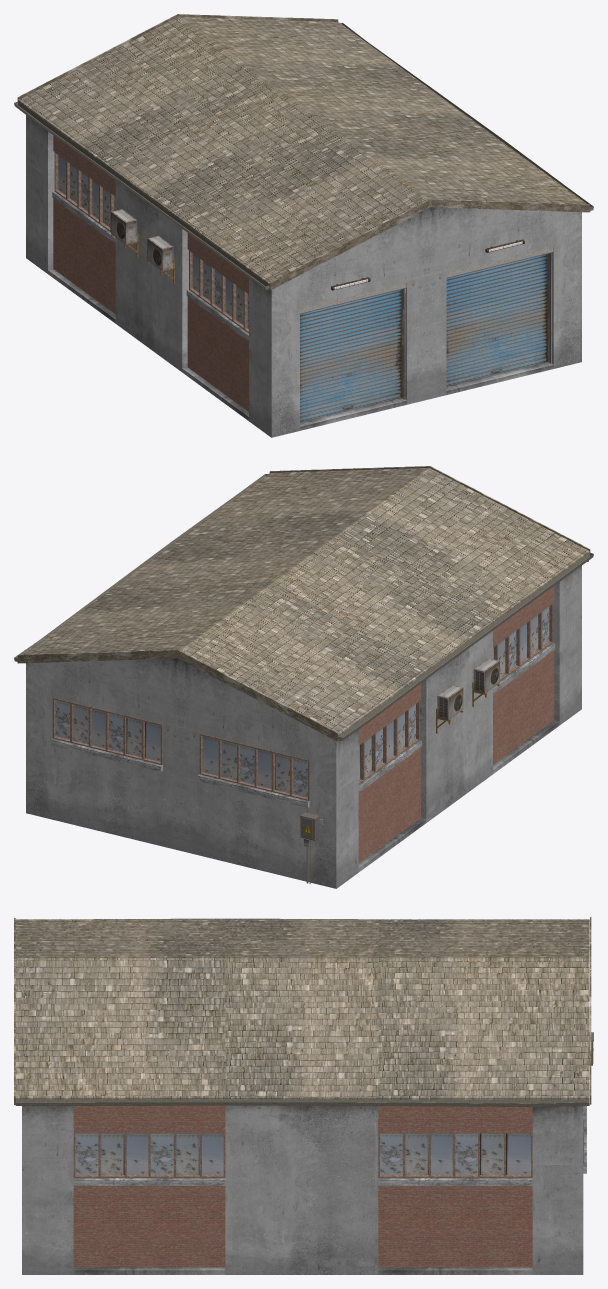
File: small_warehouse_2.glb
3 renders of one model, top to bottom at view 1: azimuth 30°, elevation 25°; view 2: azimuth 150°, elevation 25°; view 3: azimuth 270°, elevation 25°, orthographic. The views are drawn at different scales.
Parts seen in each view (by area): view 1: woodenRoof, walls, DoorsRollup, DoorsRollup.001, brickWalls.001, wideWindow, wideWindow.001, wood.001, gutter.001, wood, airconditioning.Low.001, airconditioning.Low (+1 smaller); view 2: woodenRoof, walls, brickWalls.001, wideWindow.002, wood, wideWindow.001, wideWindow, gutter.001, wood.001, eletricBox-Low, airconditioning.Low, airconditioning.Low.001 (+1 smaller); view 3: woodenRoof, walls, brickWalls, wideWindow.001, wideWindow, gutter.
Part boxes in pixels (x1,y1,x2,y2): woodenRoof: (18,16,586,288); walls: (26,115,581,437); DoorsRollup: (446,247,553,386); DoorsRollup.001: (300,283,406,421); brickWalls.001: (53,135,248,411); wideWindow: (186,250,248,341); wideWindow.001: (52,152,115,243); wood.001: (269,199,590,290); gutter.001: (14,101,269,289); wood: (17,14,338,100); airconditioning.Low.001: (111,209,137,244); airconditioning.Low: (147,236,173,271); woodenRoof: (22,468,589,739); walls: (26,566,581,888); brickWalls.001: (358,586,554,862); wideWindow.002: (51,698,309,807); wood: (17,649,338,741); wideWindow.001: (358,701,421,792); wideWindow: (493,603,555,694); gutter.001: (338,552,593,740); wood.001: (269,466,590,552); eletricBox-Low: (300,812,322,883); airconditioning.Low: (473,658,499,693); airconditioning.Low.001: (437,685,463,720); woodenRoof: (15,919,589,1100); walls: (22,1105,583,1274); brickWalls: (73,1105,532,1267); wideWindow.001: (378,1132,532,1185); wideWindow: (73,1132,225,1185); gutter: (15,1099,589,1107).
Size of the model in its own units: 8.63 by 5.03 by 11.35.
Materials: 9 (9 with a texture image).
